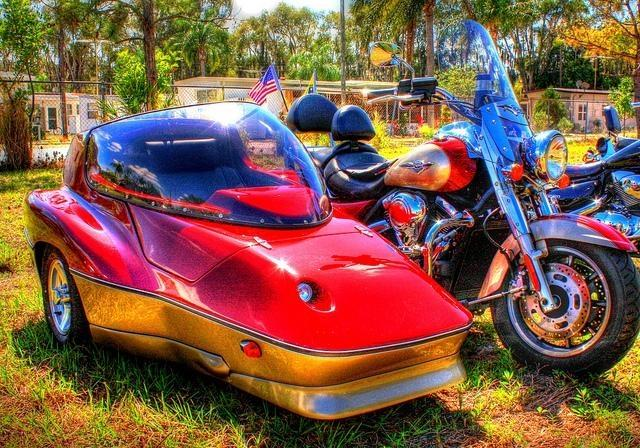car: (24, 98, 474, 422)
motorcycle: (285, 20, 640, 379), (554, 137, 640, 259)
